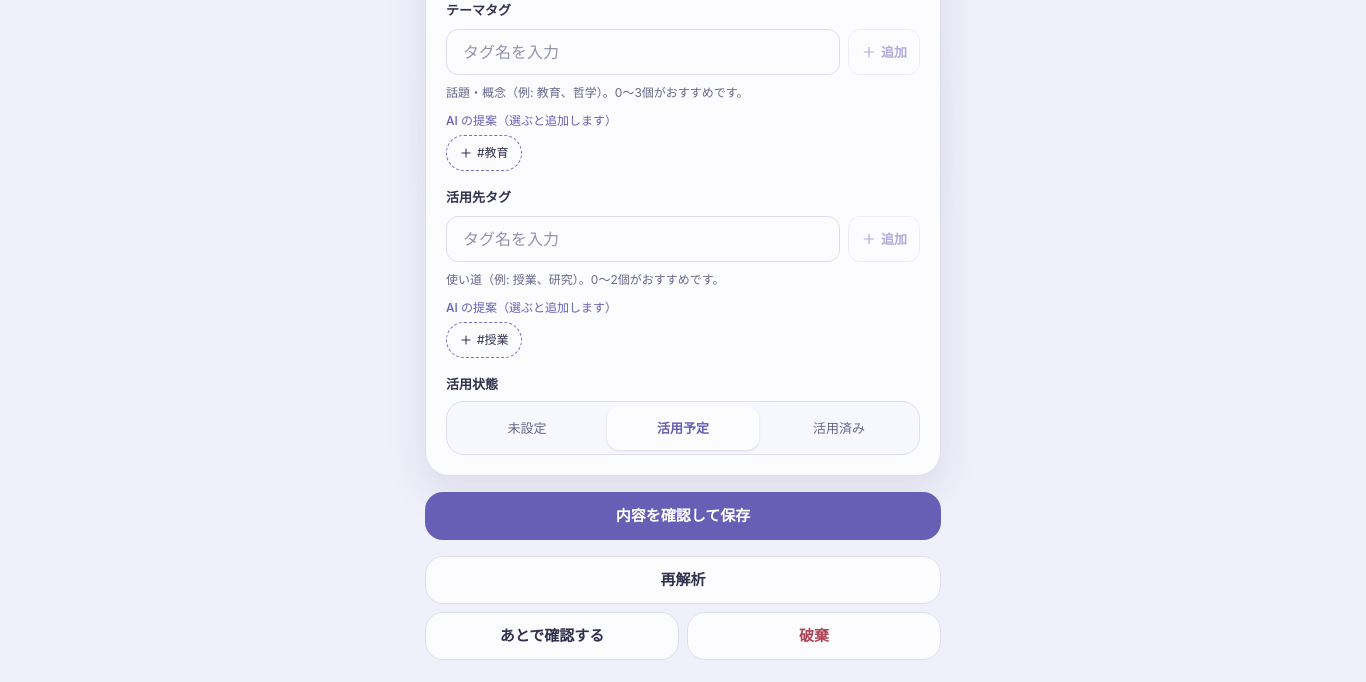
Test: 確認画面（AI 抽出） › 再解析は無料枠を使う旨を確認してから送る
The image size is (1366, 682).
(page scrolled)
Click the button "再解析". click: (683,580)
box: [425,556,941,604]
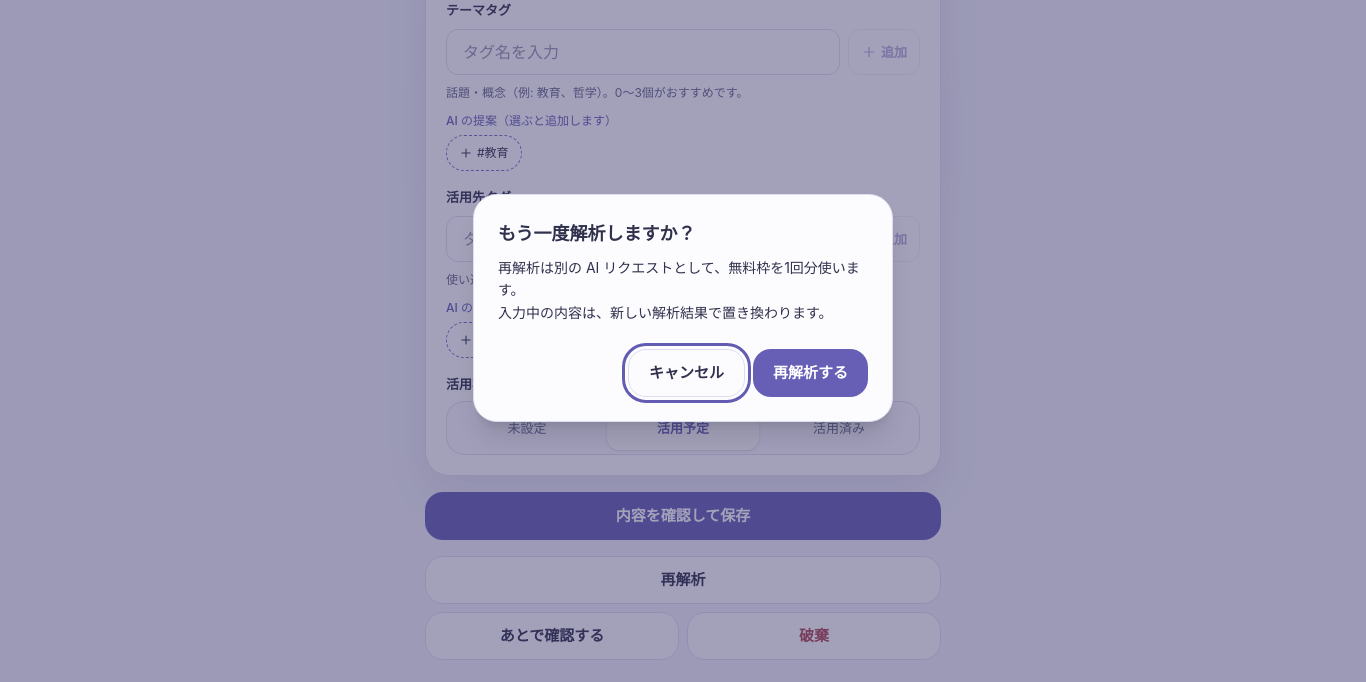
Result: the text "再解析は別の AI リクエストとして、無料枠を1回分使います。" is shown at [498,257,868,302]
Click the button "再解析する". click: (810,373)
box: [753,349,868,397]
(page scrolled)
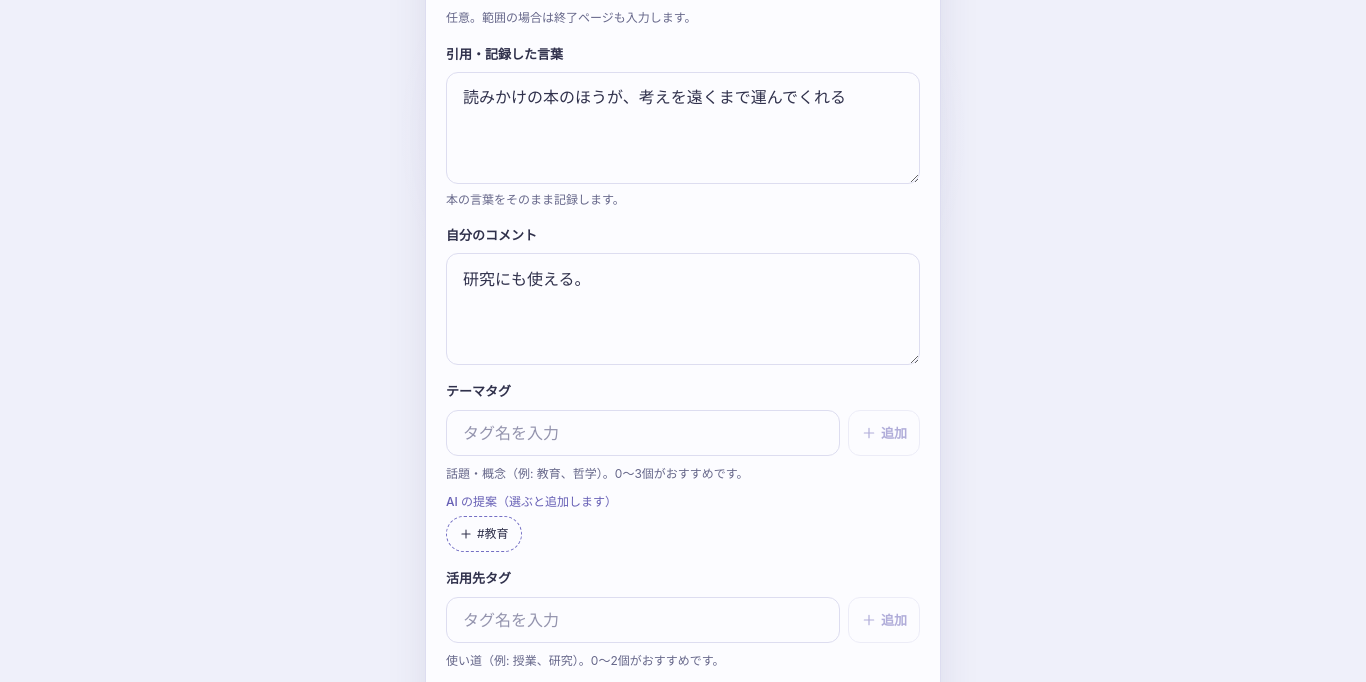
Result: the text box labelled "自分のコメント" holds "研究にも使える。" at [446,253,920,365]
